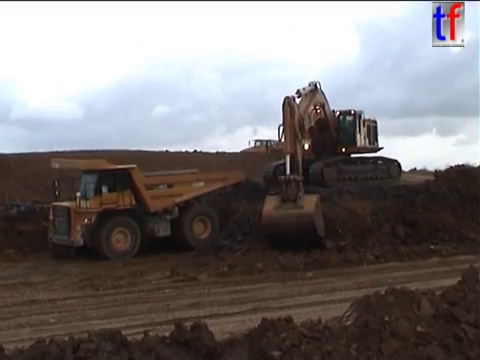excavator: (258, 77, 404, 243)
truck: (40, 155, 247, 262), (238, 138, 312, 165)
